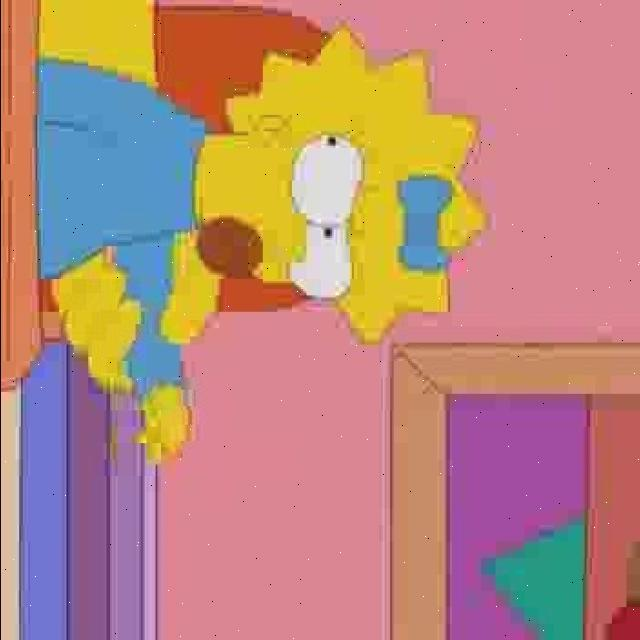Maggie Simpson: (193, 24, 487, 348)
